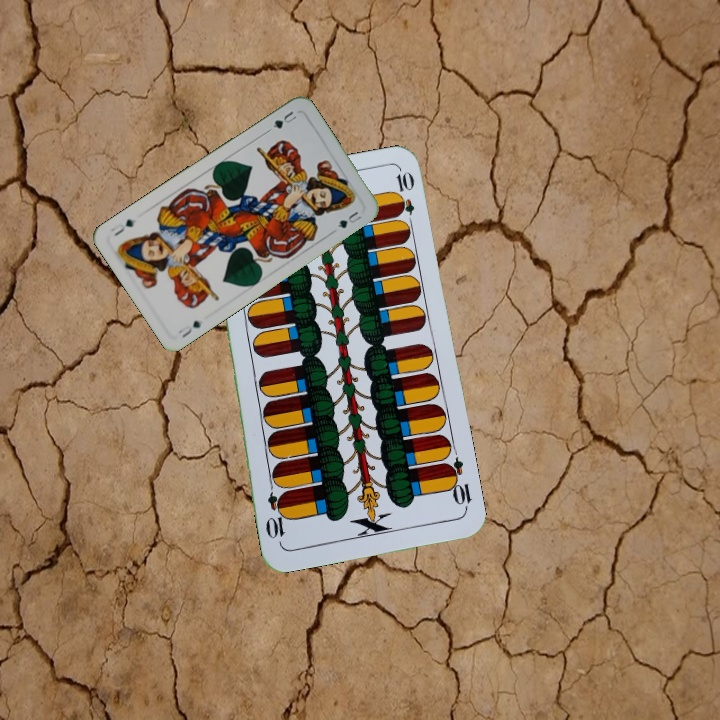E10: (441, 454, 474, 513)
GU: (269, 107, 299, 131), (174, 316, 203, 340)
